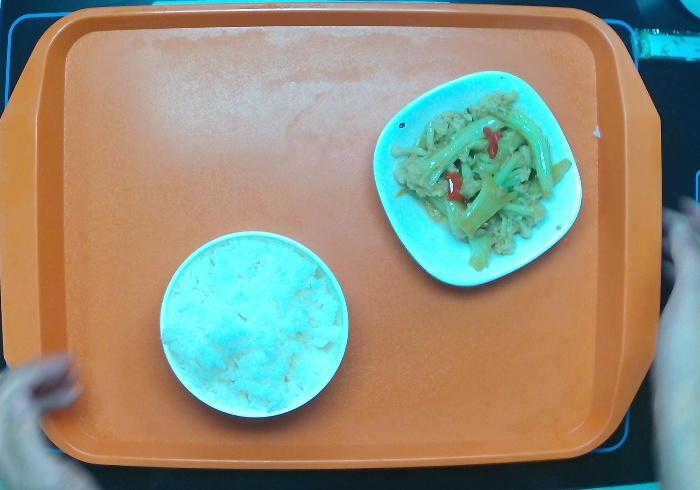ZNLD-Fan_Wan: (158, 228, 349, 419)
ZNLD-Si_Fang_Wan: (371, 68, 584, 288)
